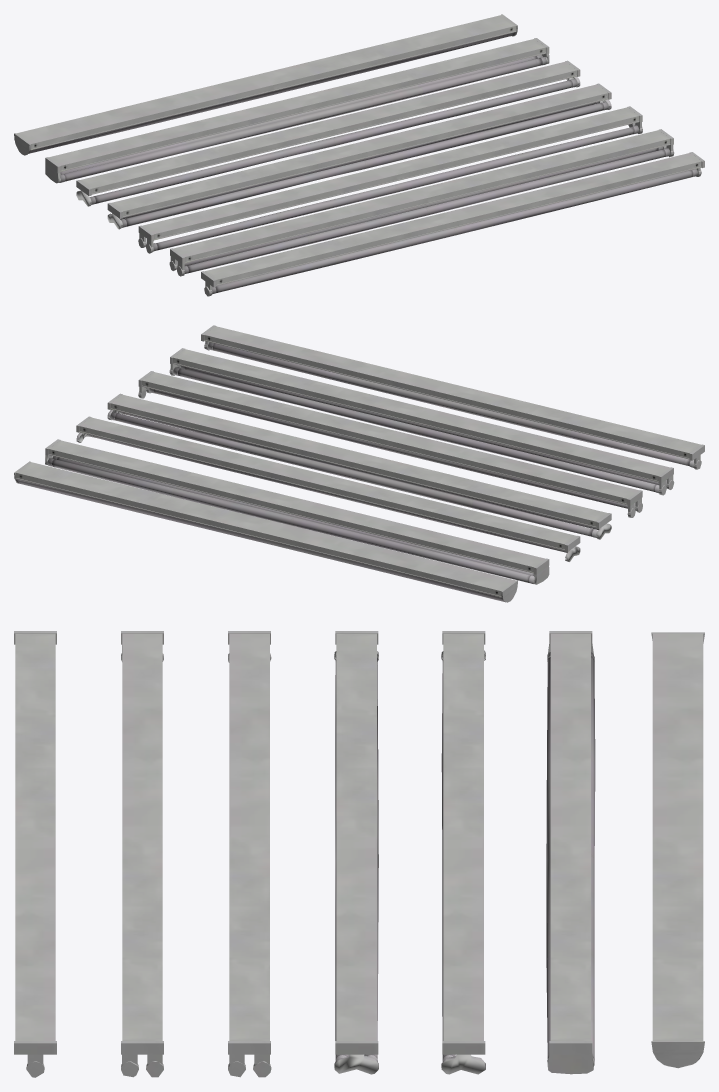
File: p_mounted_fluorescent_lights.glb
3 views of the same model, one above another, from view 1: azimuth 30°, elevation 25°; view 2: azimuth 150°, elevation 25°; view 3: azimuth 270°, elevation 25° (orthographic). The views are drawn at different scales.
Parts seen in each view (by area): view 1: mounted_fluorescent_lights_a; view 2: mounted_fluorescent_lights_a; view 3: mounted_fluorescent_lights_a.
Part boxes in pixels (box(x1,y1,x2,y2)): mounted_fluorescent_lights_a: box(14, 14, 704, 296); mounted_fluorescent_lights_a: box(14, 325, 704, 602); mounted_fluorescent_lights_a: box(14, 631, 704, 1077).
Bounding box in the file's own units: 0.9122 × 0.0353 × 0.6453.
2 materials, 2 textured.
